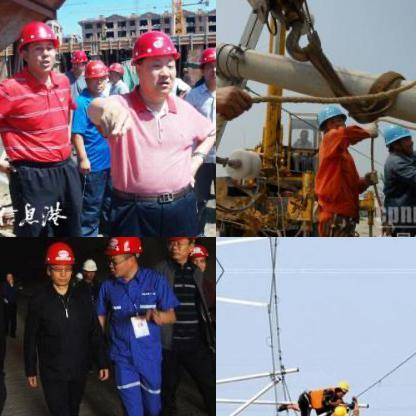Helmet: (120, 27, 176, 90), (12, 16, 60, 76), (102, 237, 145, 278), (43, 237, 76, 289), (316, 101, 349, 136), (382, 122, 414, 155), (163, 237, 197, 260), (197, 45, 215, 84), (187, 242, 208, 271), (84, 58, 104, 87), (80, 254, 100, 278), (106, 59, 124, 83), (68, 48, 83, 72), (329, 379, 351, 395), (331, 401, 348, 415)
